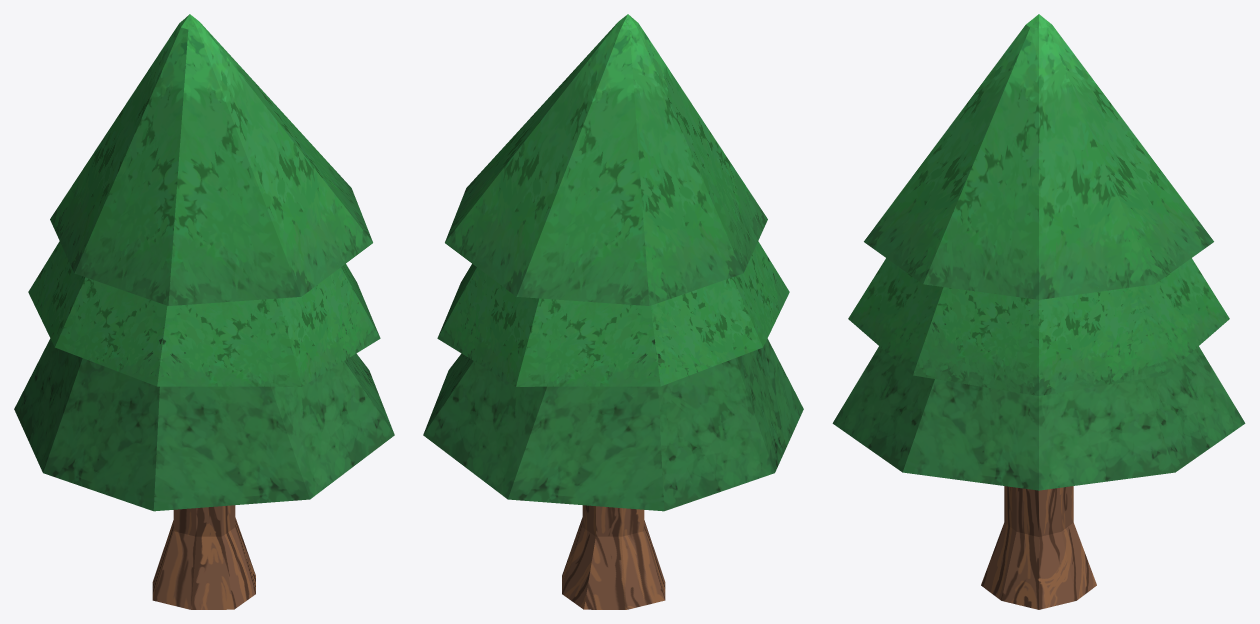
File: arvrinha_modelo_2.fbx
The picture shows the model from 3 angles, left to right: view 1: azimuth 30°, elevation 25°; view 2: azimuth 150°, elevation 25°; view 3: azimuth 270°, elevation 25°; orthographic projection. The views are drawn at different scales.
Parts seen in each view (by area): view 1: Cube.003, Cube.002; view 2: Cube.003, Cube.002; view 3: Cube.003, Cube.002.
Part boxes in pixels (x1,y1,x2,y2): Cube.003: (14,14,394,511); Cube.002: (152,505,255,609); Cube.003: (423,14,803,511); Cube.002: (562,505,665,609); Cube.003: (832,14,1245,490); Cube.002: (981,486,1096,609).
Bounding box in the file's own units: 610 × 1032 × 684.
